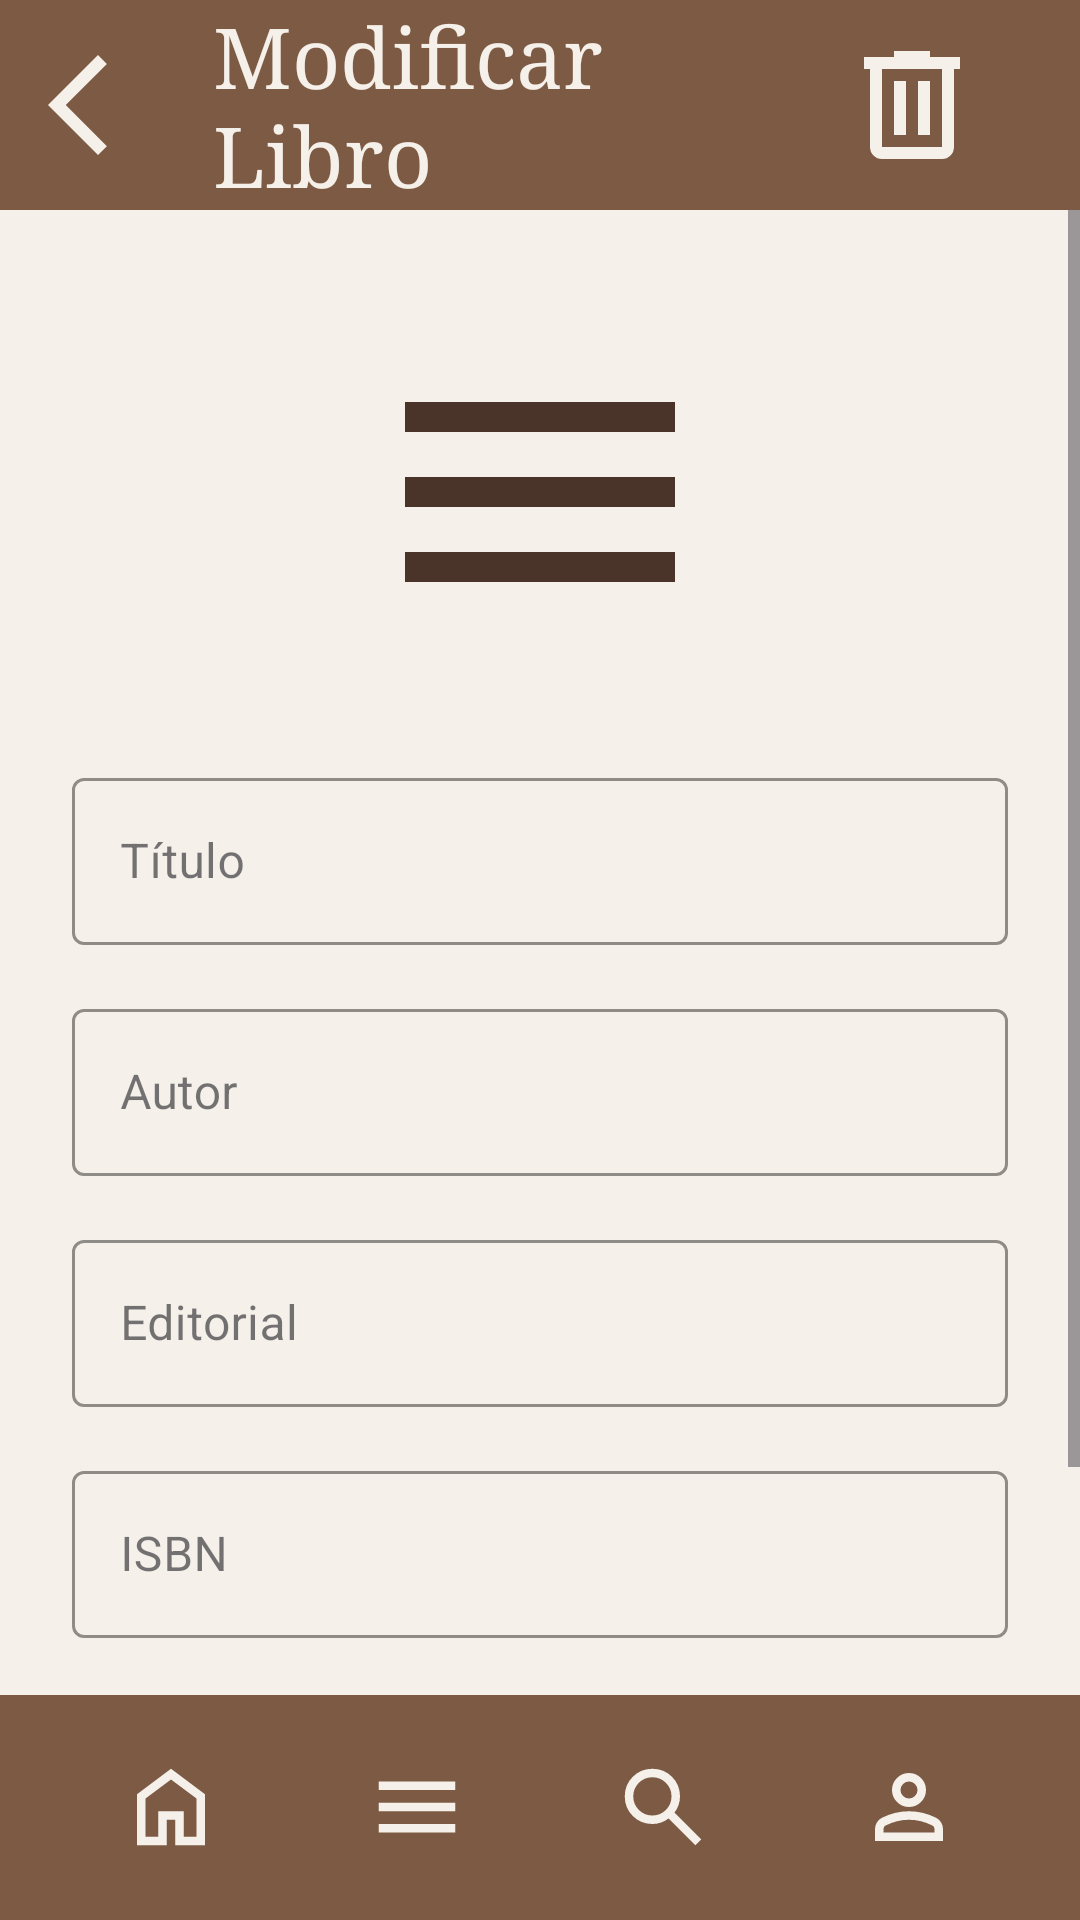

Where to tap for icons on this 1080 x 1920 app screen, as point (x, y):
delete: point (912, 105)
flecha left: point (77, 105)
home: point (171, 1807)
lista: point (540, 492), point (417, 1807)
lupa: point (662, 1806)
perfil: point (909, 1807)
